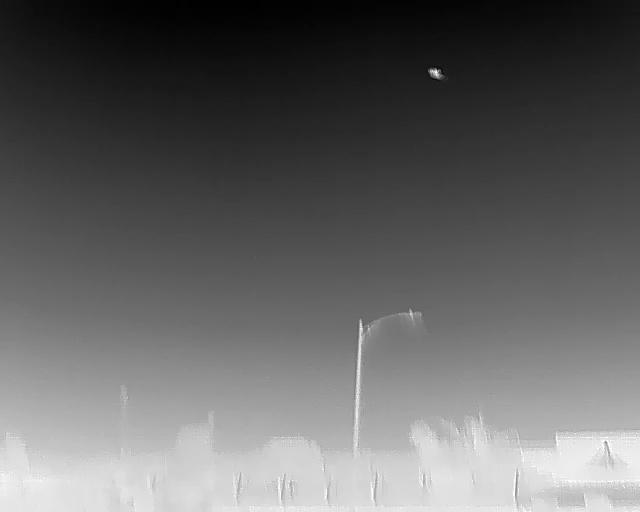fpv-drone: (428, 68, 445, 80)
